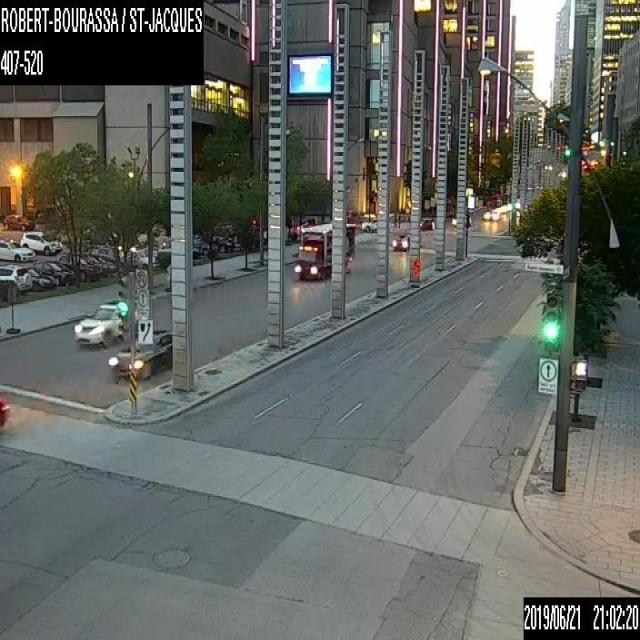construction: (411, 256, 422, 277)
vehicle: (296, 220, 354, 280), (110, 325, 172, 380), (71, 299, 131, 349), (56, 251, 101, 281), (34, 259, 73, 286), (19, 230, 63, 253), (0, 264, 31, 293), (97, 246, 136, 268), (87, 250, 119, 276), (0, 237, 35, 259), (26, 265, 55, 290), (2, 212, 34, 230), (132, 248, 156, 268), (360, 216, 390, 231), (392, 232, 410, 252), (451, 212, 472, 227), (214, 234, 232, 250), (0, 392, 7, 428), (481, 207, 500, 220), (420, 215, 435, 229)
